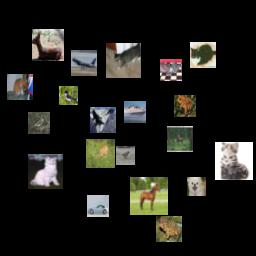airplane: (90, 107, 116, 133), (71, 50, 97, 76)
automobile: (87, 195, 109, 217)
bird: (28, 112, 50, 134), (116, 146, 135, 165), (59, 86, 78, 105)
cat: (215, 142, 253, 180), (28, 154, 63, 189), (106, 43, 141, 78), (190, 42, 216, 68), (7, 74, 33, 100), (160, 59, 182, 81)
deer: (32, 29, 64, 61), (86, 139, 115, 168), (167, 126, 193, 152)
dog: (187, 177, 206, 196)
frog: (156, 216, 182, 242), (174, 95, 196, 117)
ship: (124, 101, 146, 123)
